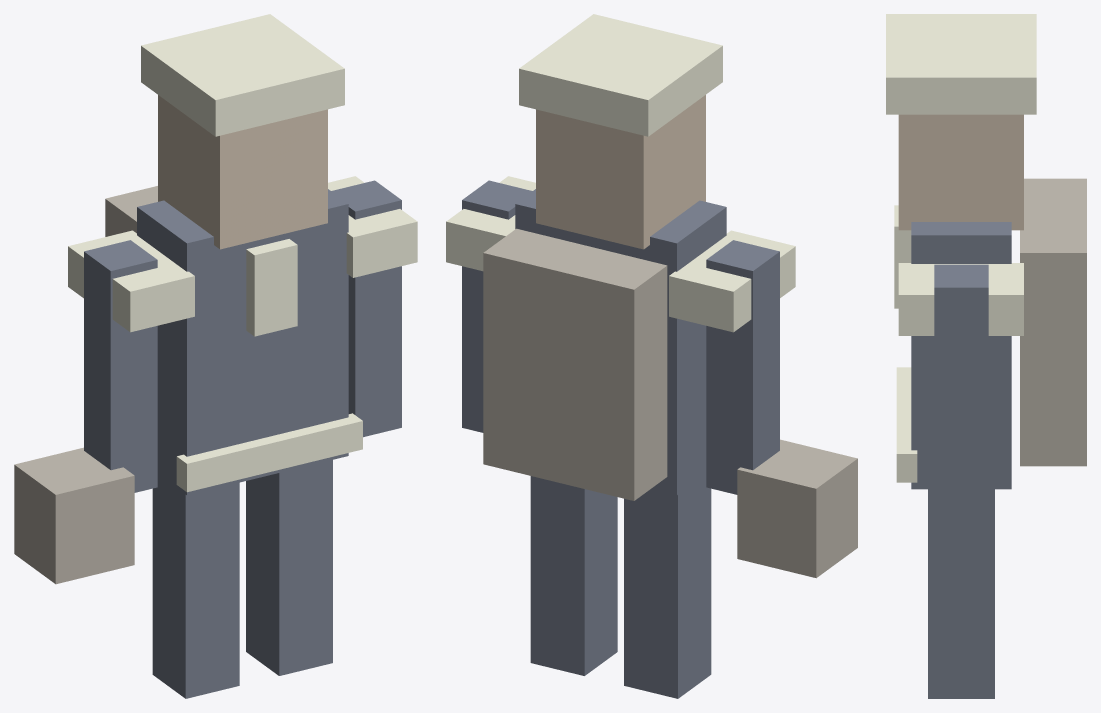
File: 15_vale_mossguard_runner_of_integrity.glb
The picture shows the model from 3 angles, left to right: view 1: azimuth 30°, elevation 25°; view 2: azimuth 150°, elevation 25°; view 3: azimuth 270°, elevation 25°; orthographic projection.
Parts seen in each view (by area): view 1: Vale Mossguard, Runner of Integrity; view 2: Vale Mossguard, Runner of Integrity; view 3: Vale Mossguard, Runner of Integrity.
Part boxes in pixels (left/top/right/bottom): Vale Mossguard, Runner of Integrity: left=14, top=14, right=417, bottom=698; Vale Mossguard, Runner of Integrity: left=446, top=14, right=857, bottom=698; Vale Mossguard, Runner of Integrity: left=886, top=14, right=1086, bottom=698.
Size of the model in its own units: 0.9669 by 1.58 by 0.4664.
